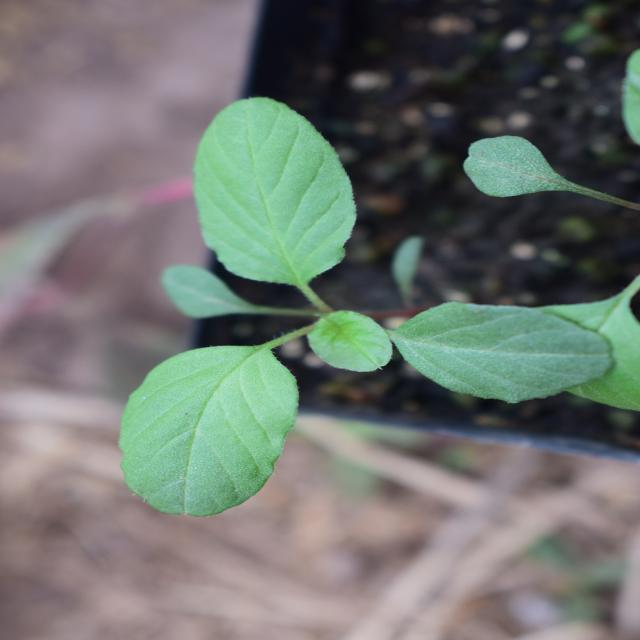pigweed: (117, 106, 547, 548)
